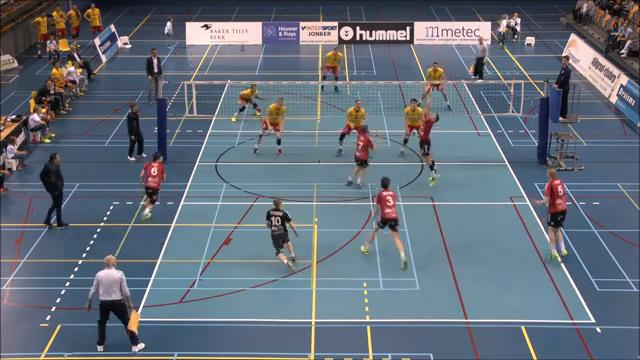alzata: (416, 94, 441, 189)
